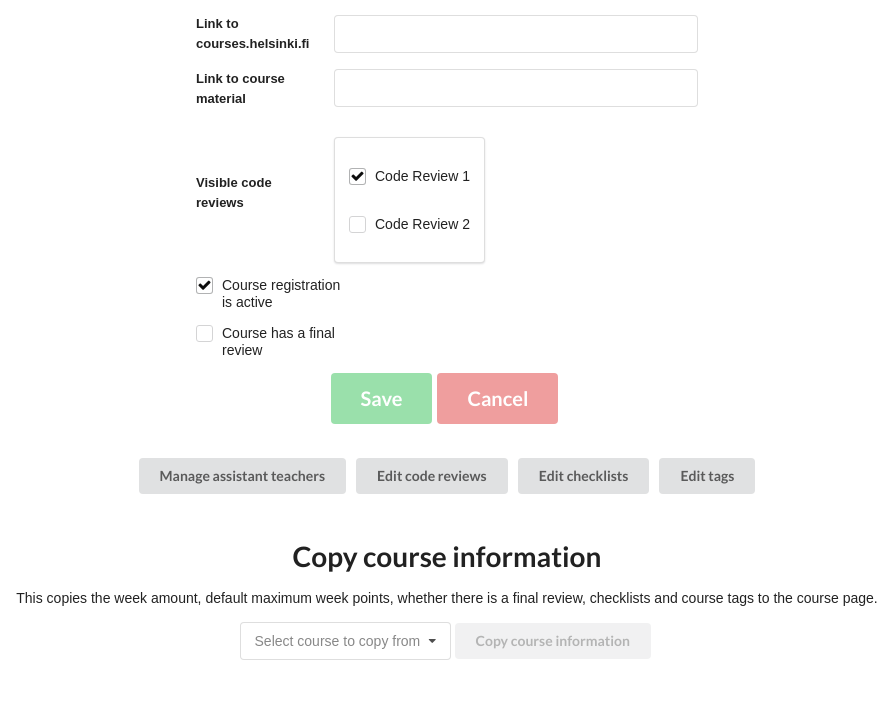
Test: <ModifyCourseInstancePage /> › marking the course invalid (#905) › leaves invalid courses out of the courses to copy from
(page scrolled)
Click the list with class "courseDropdown".
click(345, 641)  # box [240,622,451,660]
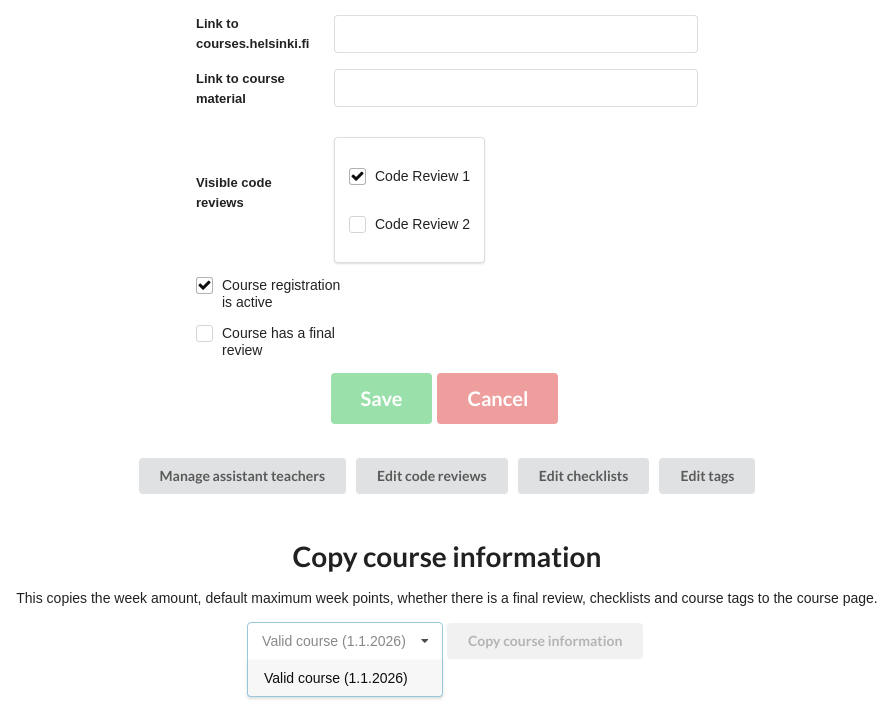
Expected: the text "Valid course (1.1.2026)" is shown, [262,634,406,648]
